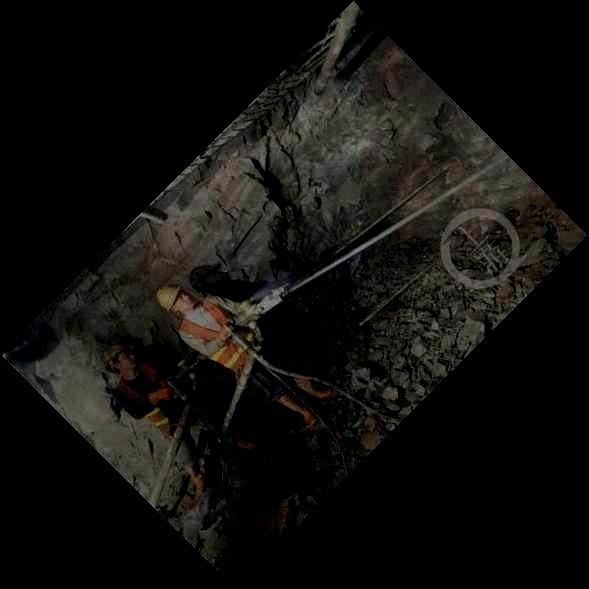helmet: (155, 284, 197, 313), (102, 344, 136, 376)
